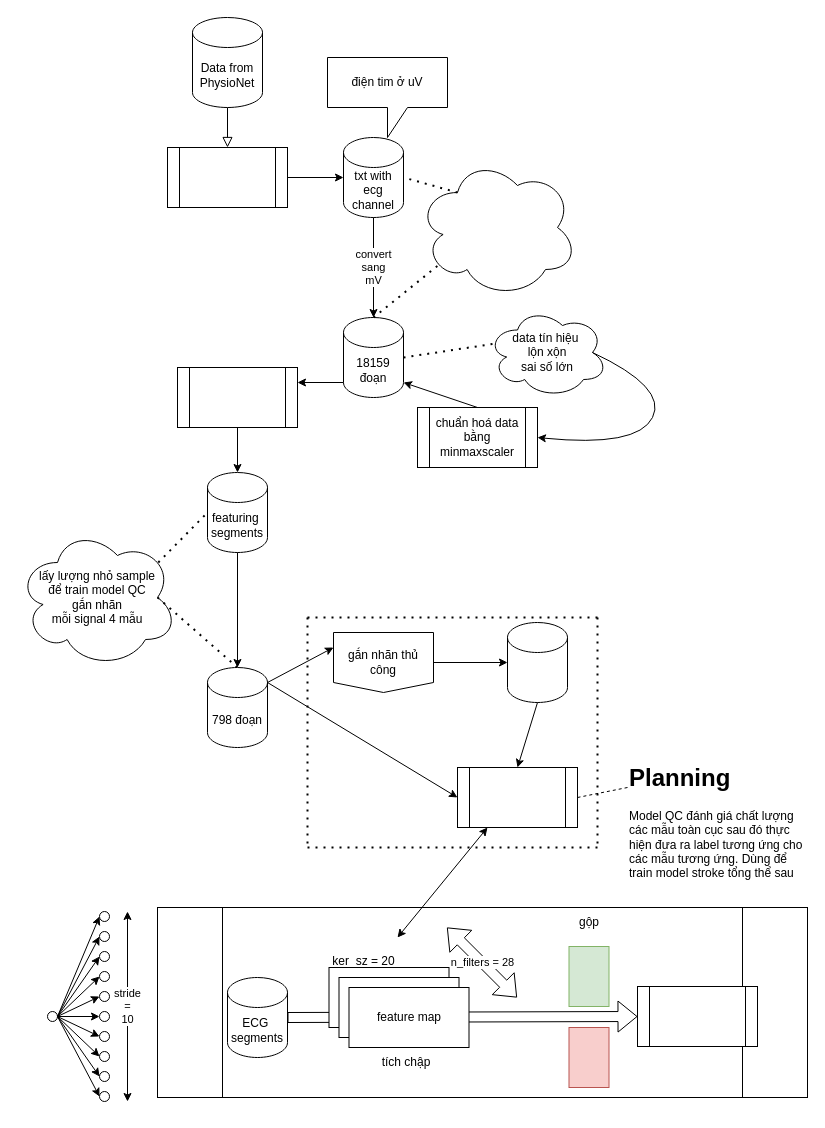
The diagram is 825 pixels wide and 1128 high, and some of its shapes have lost their labels. The shapes that lost their labels are listed below. From the top down, each one's centre as x and y in pixels, then its label:
pixel 227 177: Convert WFDB to txt
pixel 497 227: data quá lớn sample mẫu lẻ mỗi mẫu 6000ms mỗi signal 100 mẫu
pixel 237 397: filter và lấy thông số tương ứng
pixel 537 662: label
pixel 517 797: build model QC
pixel 697 1016: output
